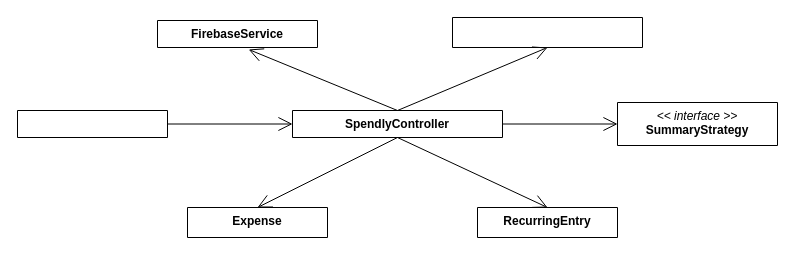
Some shapes in this 795 by 255 pixel diagram are drawn without their labels. Here are the shapes that lost their labels. From the top down, the box of each, then its label:
(452, 16, 642, 48): CurrencyAPIService
(16, 110, 168, 138): SpendlyView
